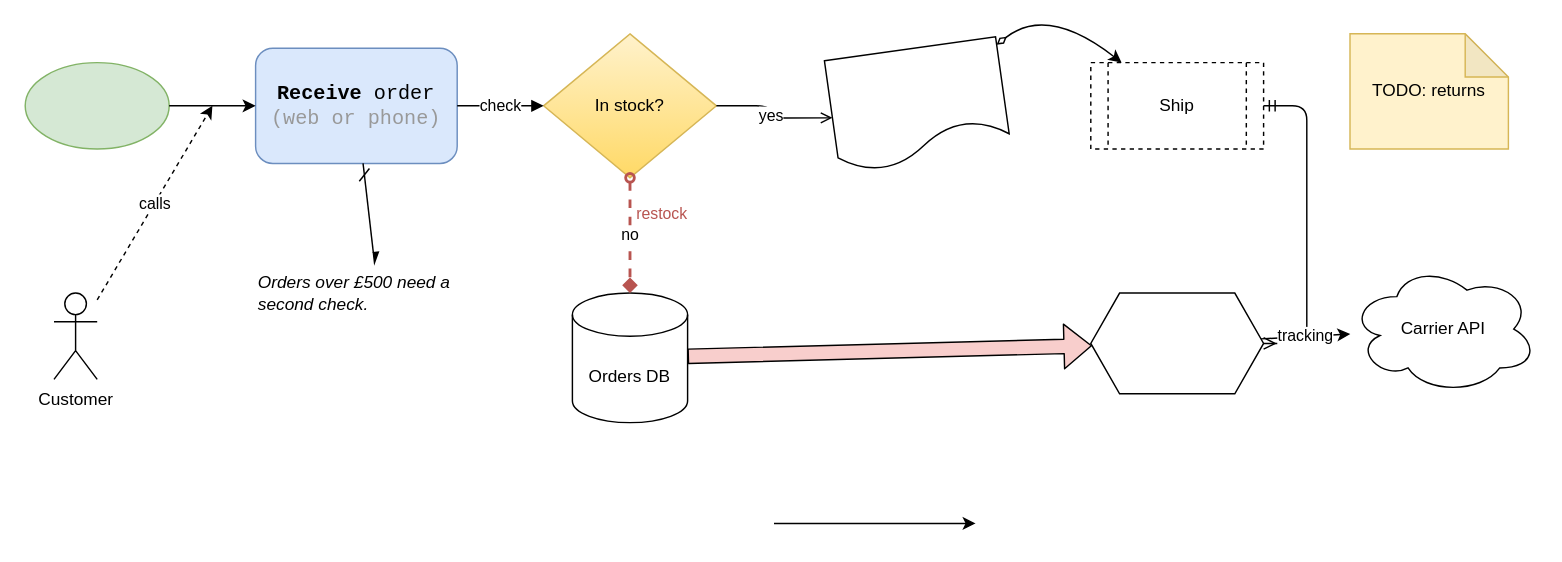
The diagram is 1562 pixels wide and 562 high, and some of its shapes have lost their labels. Each missing label, with the centre of its shape:
"Courier" goes at pixel 1176 343.
"Invoice" goes at pixel 917 105.
"Start" goes at pixel 96 105.
